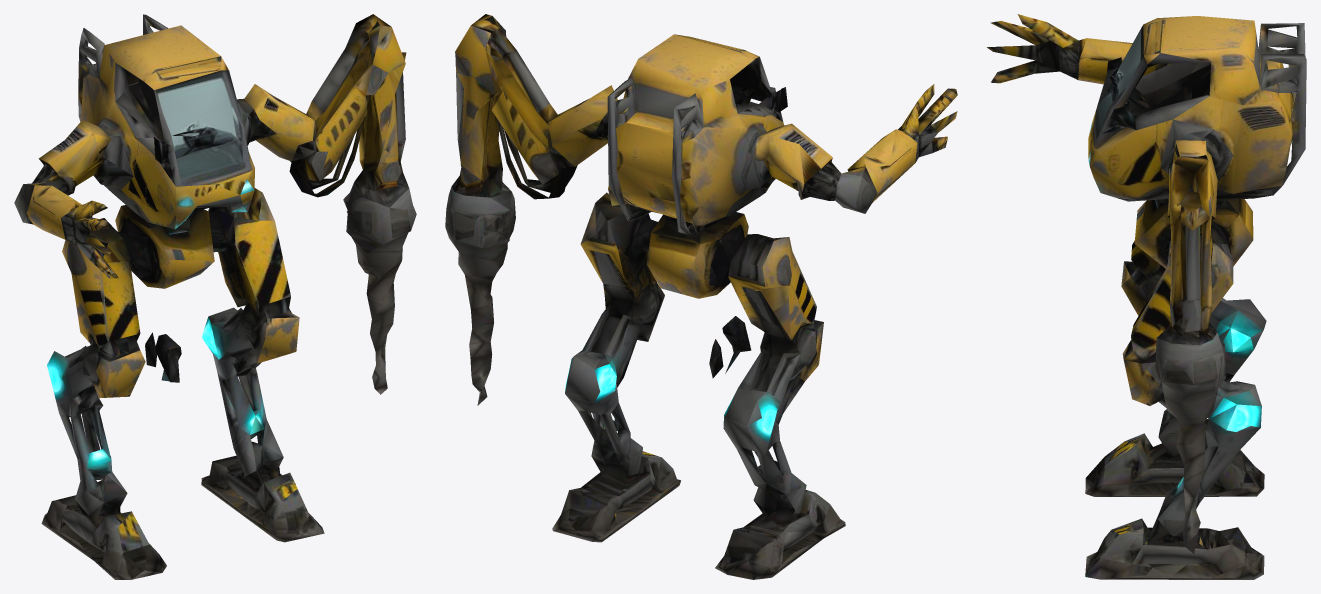
The model's file is hero_joe.glb.
3 views of the same model, side by side, from view 1: azimuth 30°, elevation 25°; view 2: azimuth 150°, elevation 25°; view 3: azimuth 270°, elevation 25° (orthographic). The views are drawn at different scales.
Parts seen in each view (by area): view 1: hero_joe; view 2: hero_joe; view 3: hero_joe.
Part boxes in pixels (left/top/right/bottom): hero_joe: left=14, top=14, right=416, bottom=579; hero_joe: left=445, top=14, right=957, bottom=579; hero_joe: left=987, top=14, right=1306, bottom=579.
Size of the model in its own units: 0.8846 by 1 by 0.5823.
1 material, 1 textured.
